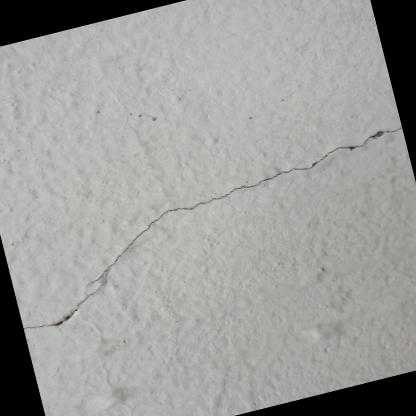crack: (83, 125, 403, 288), (23, 283, 105, 330)
